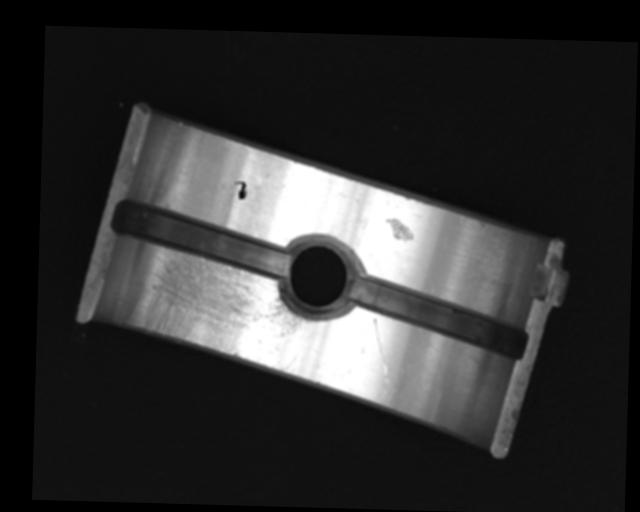blot: (233, 180, 248, 200)
bruise: (385, 217, 415, 243)
gap: (349, 274, 529, 358), (110, 198, 291, 281)
hole: (279, 233, 356, 318)
nick: (371, 318, 391, 382)
scratch: (127, 239, 310, 371)
